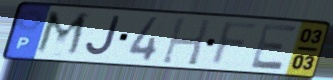4: (127, 15, 160, 63)
E: (248, 22, 301, 72)
F: (207, 20, 264, 69)
H: (159, 15, 214, 67)
J: (83, 14, 122, 59)
M: (32, 9, 93, 60)
